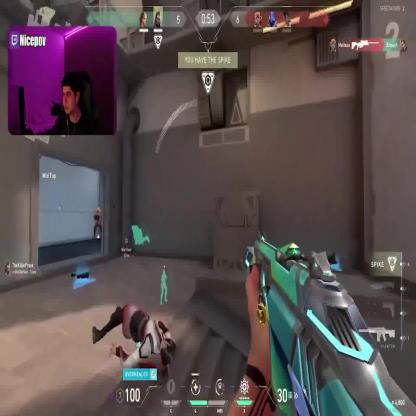enemy: (93, 207, 103, 240)
enemy_head: (96, 207, 101, 214)
